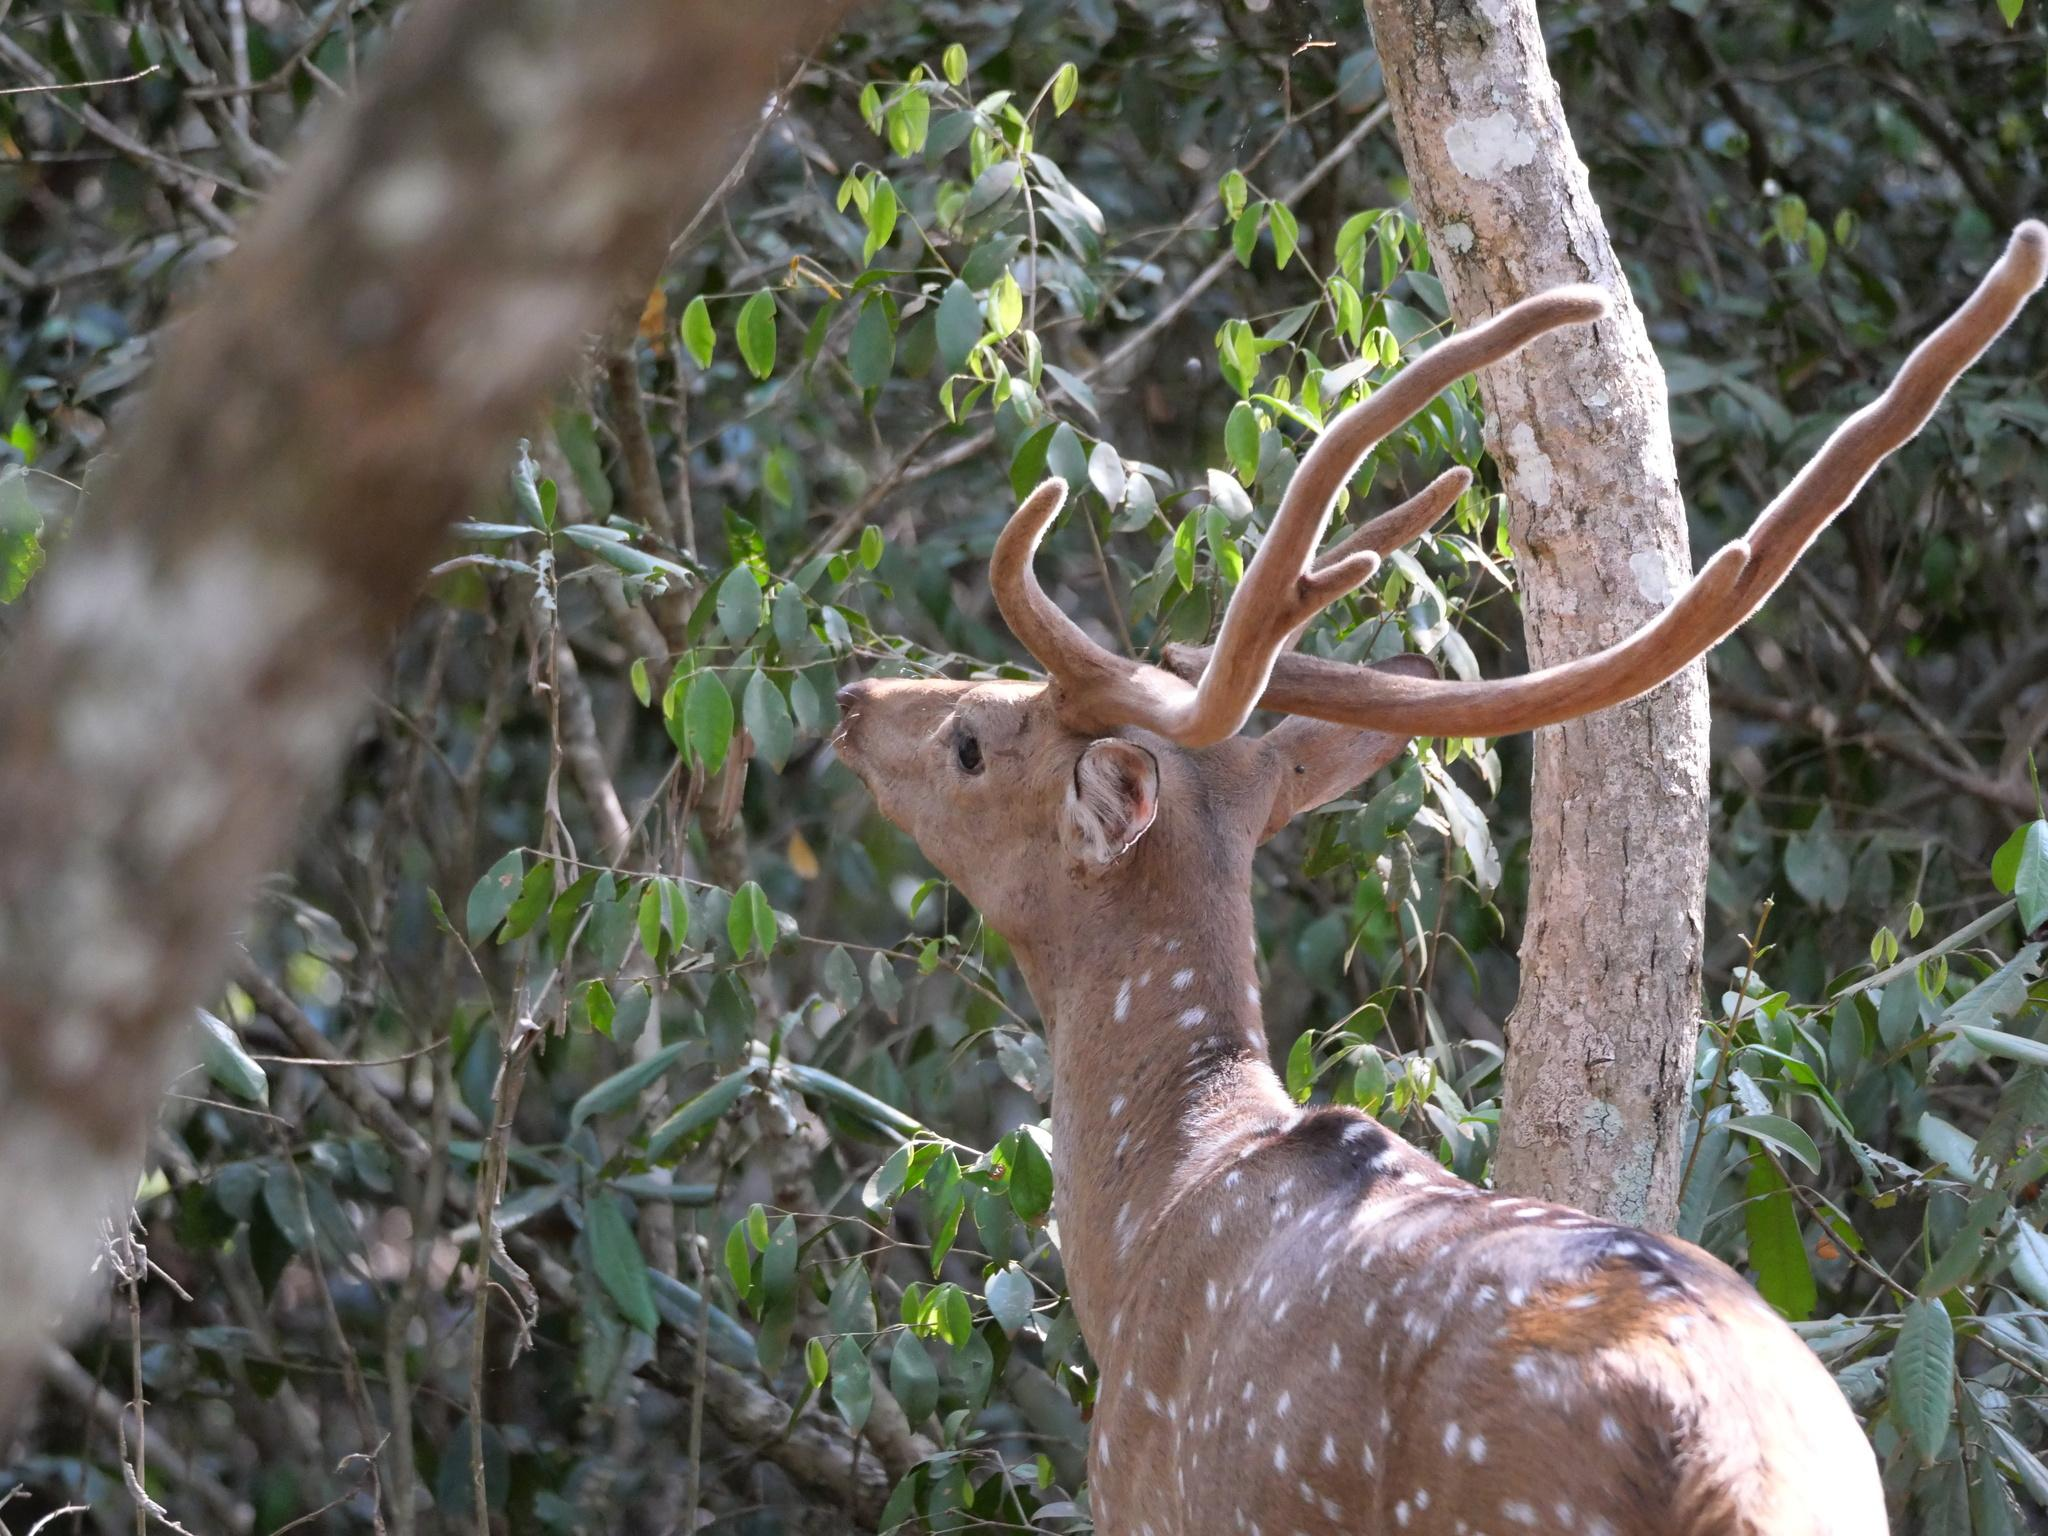Deer: (834, 223, 2046, 1534)
